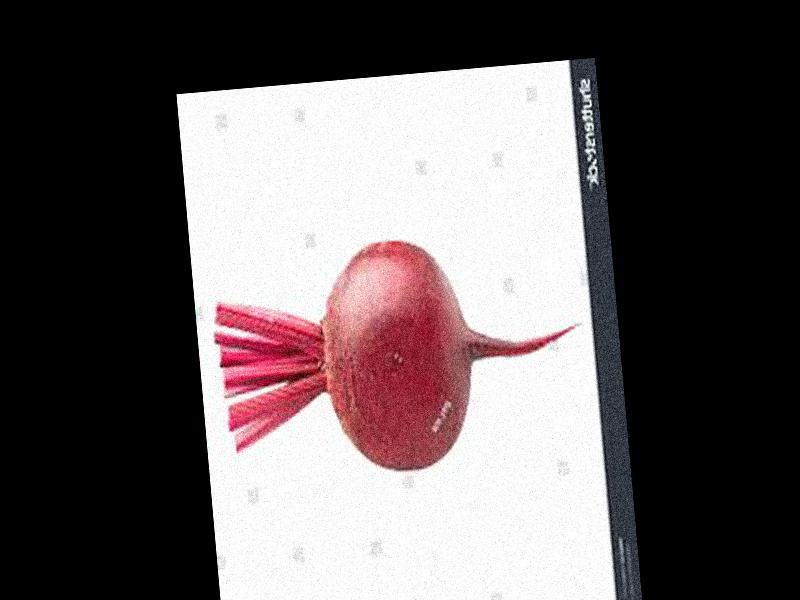Beet: (209, 225, 593, 486)
